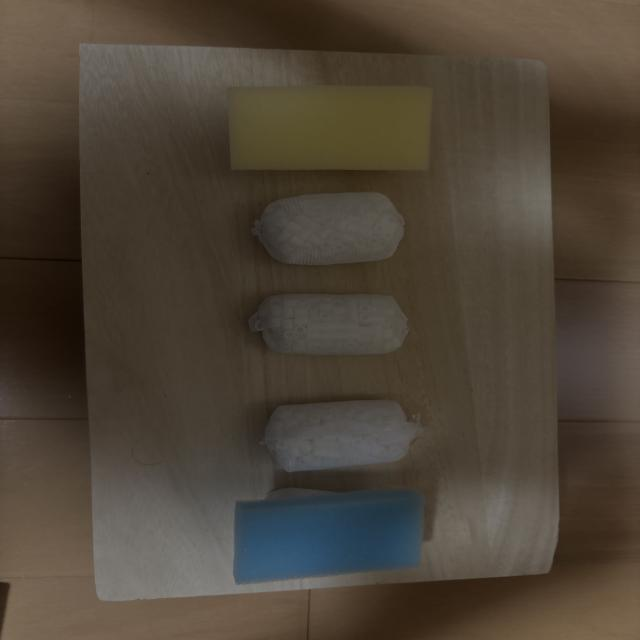NG: (263, 400, 421, 471), (252, 193, 404, 266), (249, 293, 408, 355)
ika: (233, 488, 425, 584)
tamago: (228, 86, 432, 170)
